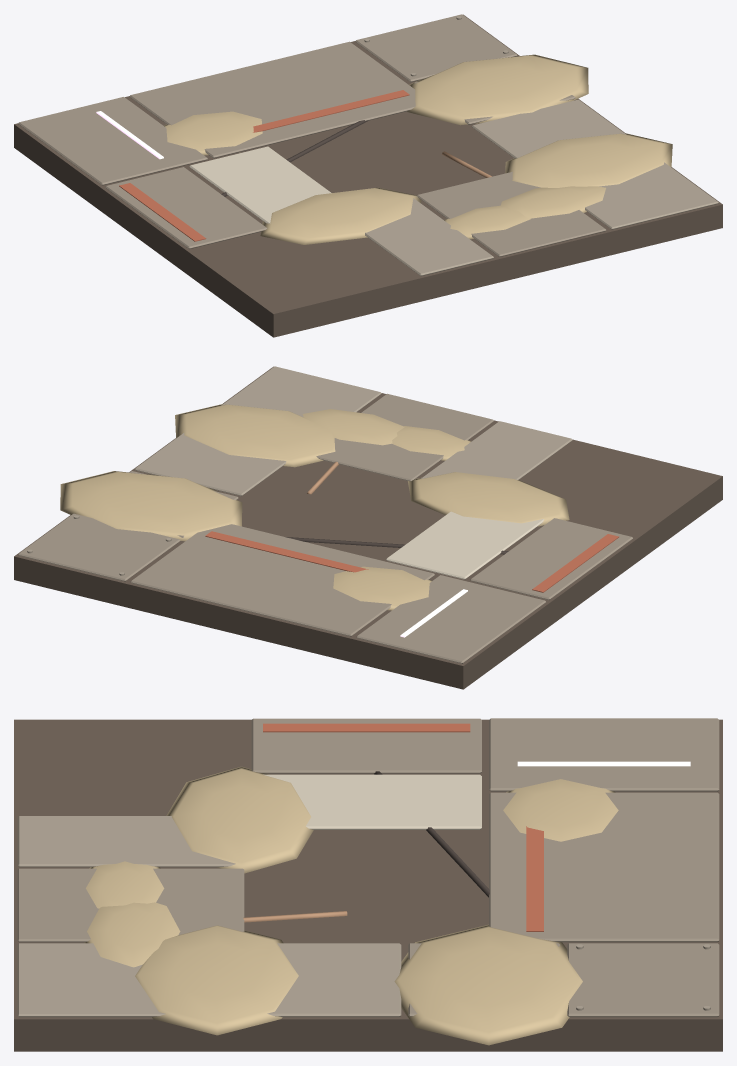
The model's file is floor_du_broken.glb.
3 renders of one model, top to bottom at view 1: azimuth 30°, elevation 25°; view 2: azimuth 150°, elevation 25°; view 3: azimuth 270°, elevation 25°, orthographic. The views are drawn at different scales.
Parts seen in each view (by area): view 1: floor_du_broken; view 2: floor_du_broken; view 3: floor_du_broken.
Part boxes in pixels (box(x1,y1,x2,y2)): floor_du_broken: box(14, 14, 722, 337); floor_du_broken: box(14, 366, 722, 689); floor_du_broken: box(14, 718, 722, 1051).
Bounding box in the file's own units: 4.35 × 0.262 × 4.
